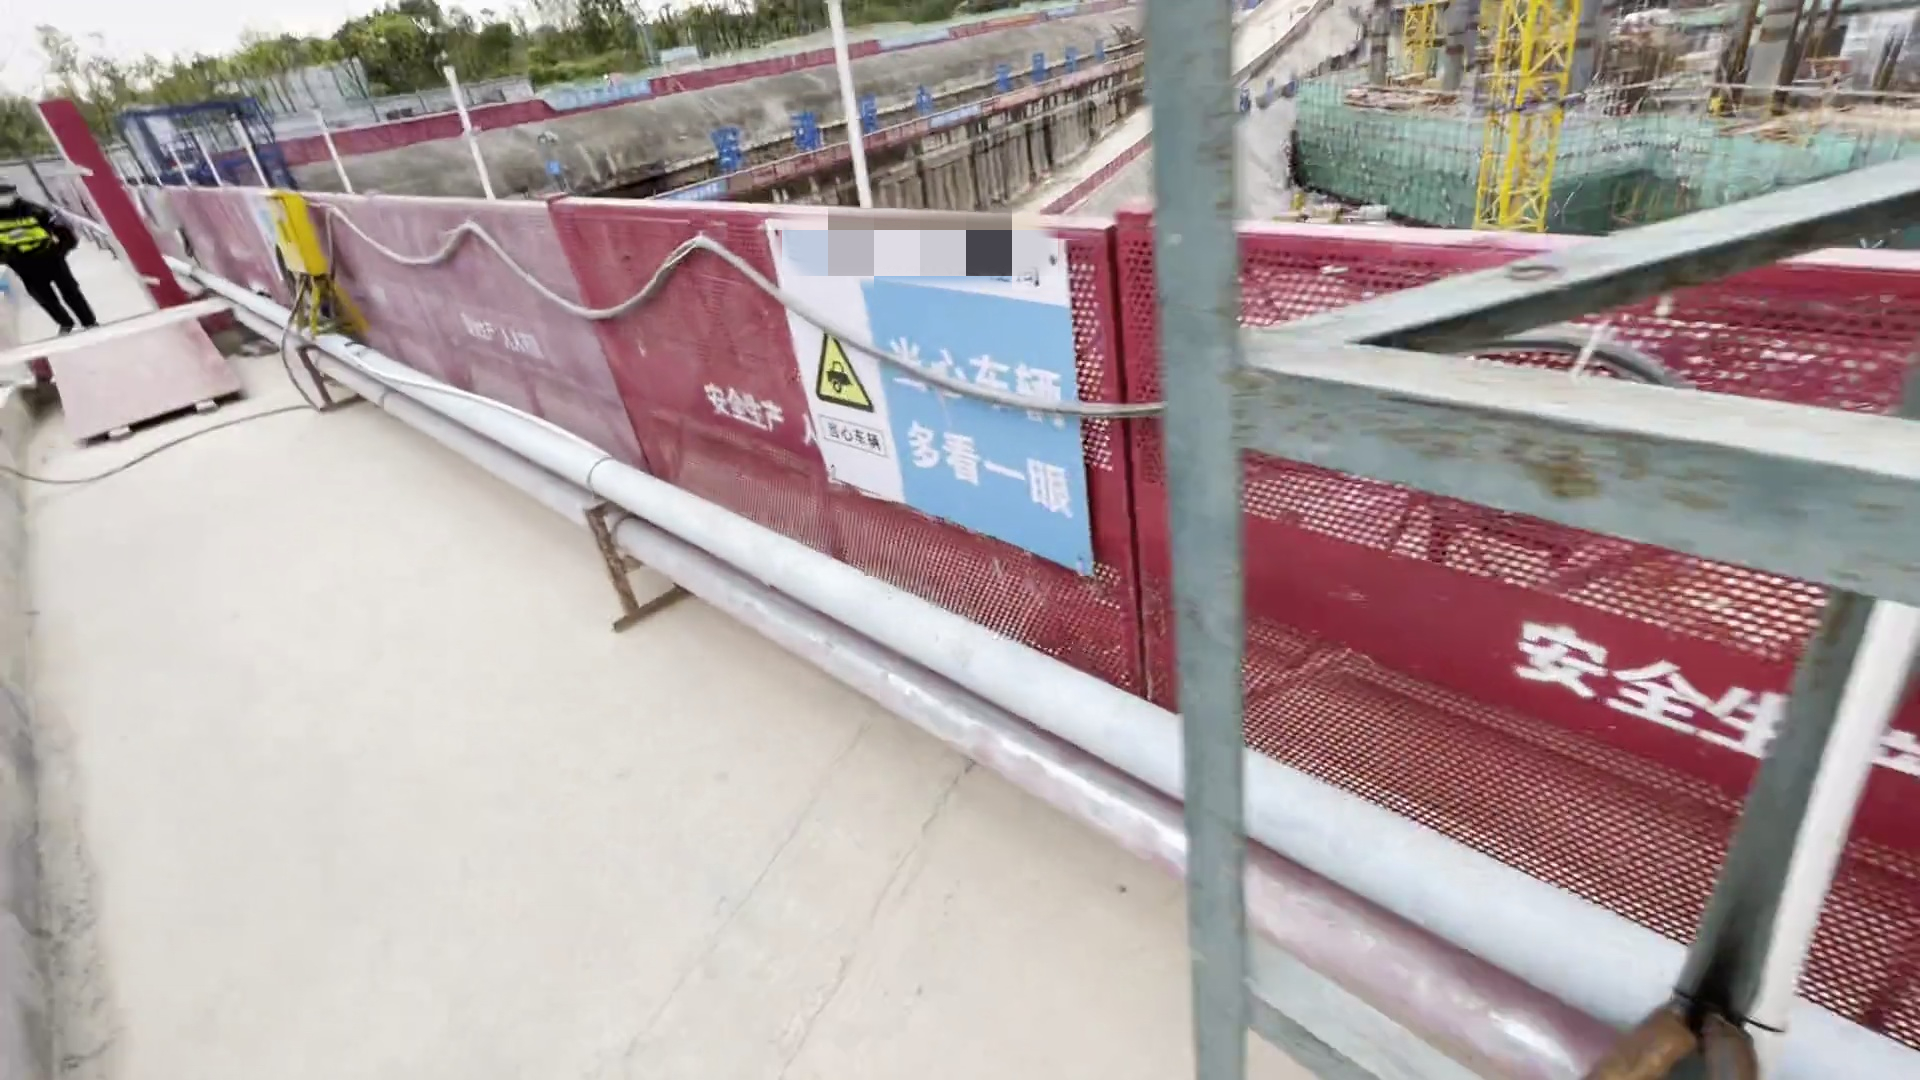board: (33, 318, 245, 454)
ebox: (256, 187, 337, 304)
fence: (140, 187, 1920, 1046), (283, 108, 577, 152)
helmet: (1, 174, 36, 203)
person: (1, 183, 102, 341)
slogan: (726, 203, 1149, 597), (515, 72, 667, 118), (891, 91, 995, 143), (652, 168, 752, 205)
vest: (2, 207, 87, 273)
